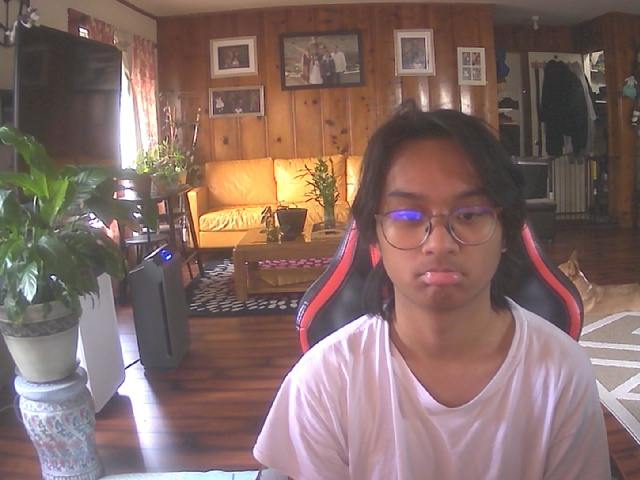sad: (371, 118, 514, 313)
